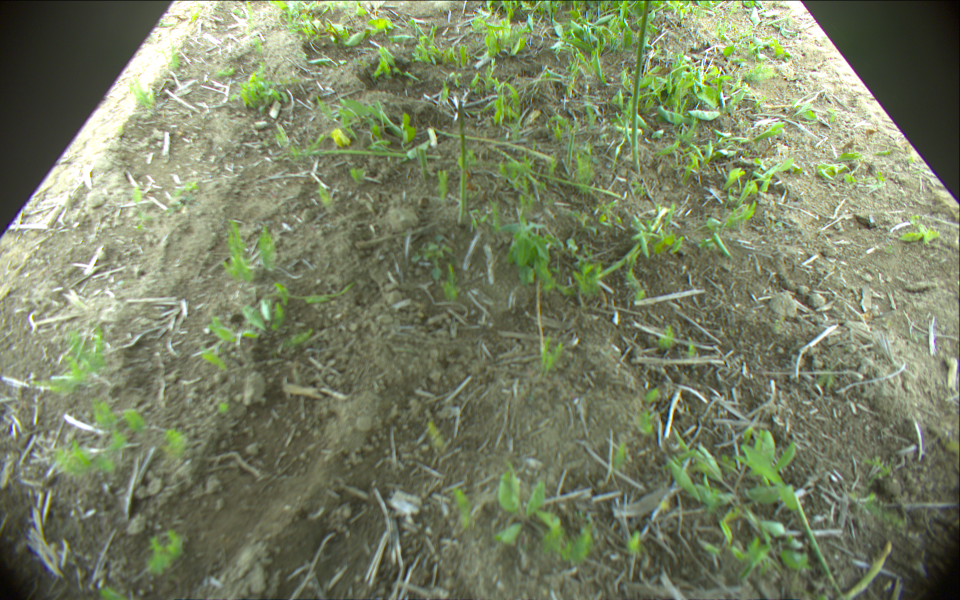aspa: (786, 487, 844, 600), (426, 125, 555, 162), (631, 1, 651, 171), (834, 542, 890, 600), (291, 147, 441, 158), (458, 100, 469, 229), (565, 124, 578, 171)
